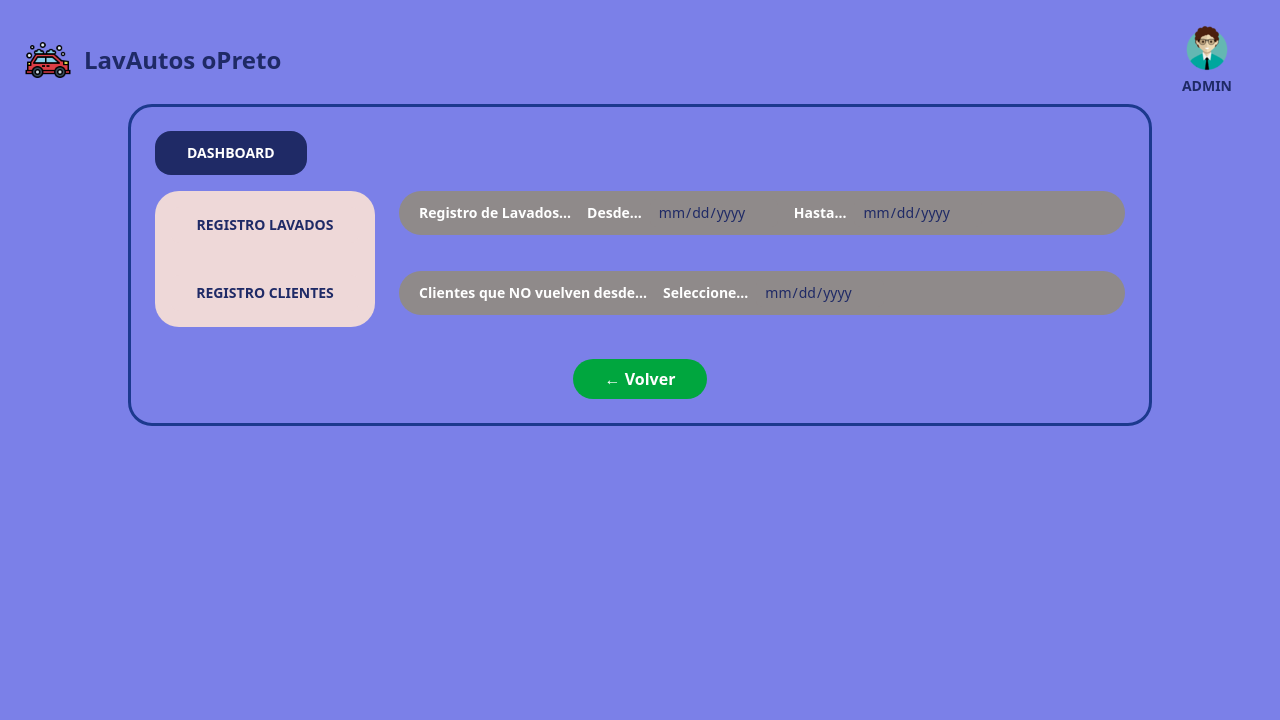
Test: DashboardPage › elegir Desde y Hasta consulta los lavados entregados del rango
Expected: the date field labelled "Desde..." is shown, [650, 199, 778, 227]
Click the button "REGISTRO LAVADOS" at (265, 225), box [171, 207, 359, 243]
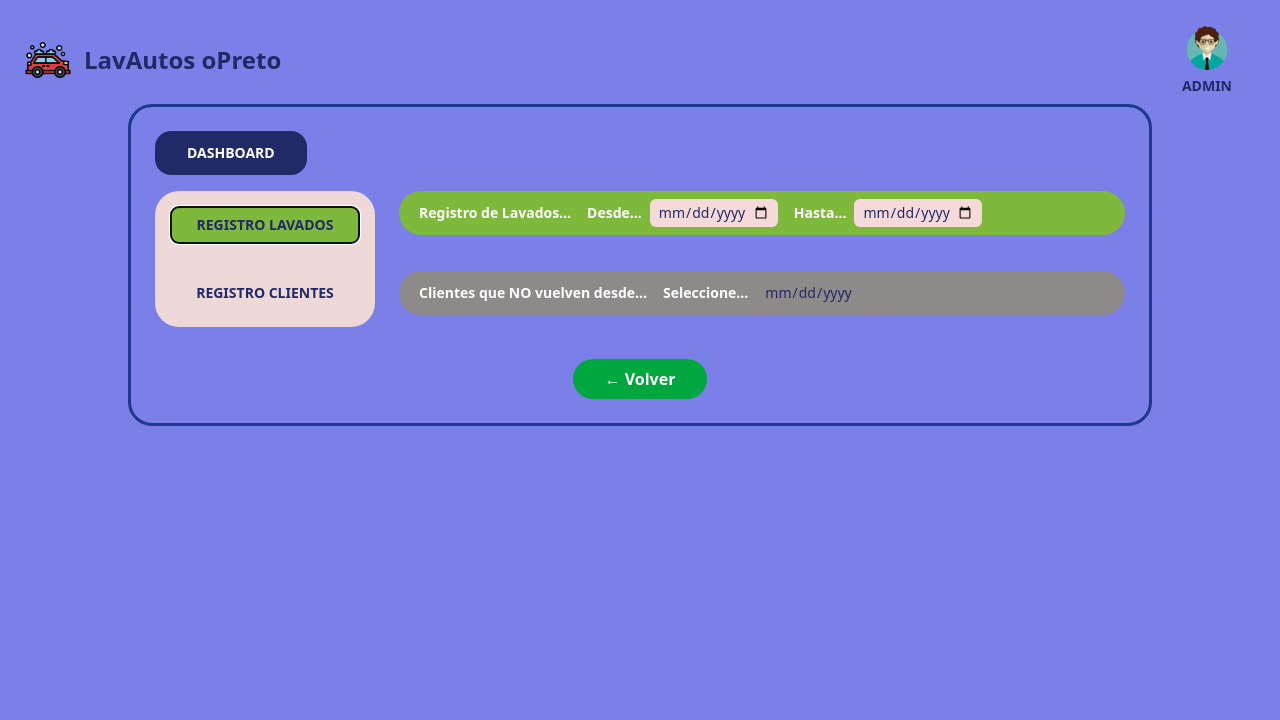
Type "2026-01-01" into the date field labelled "Desde..." at (714, 213), box [650, 199, 778, 227]
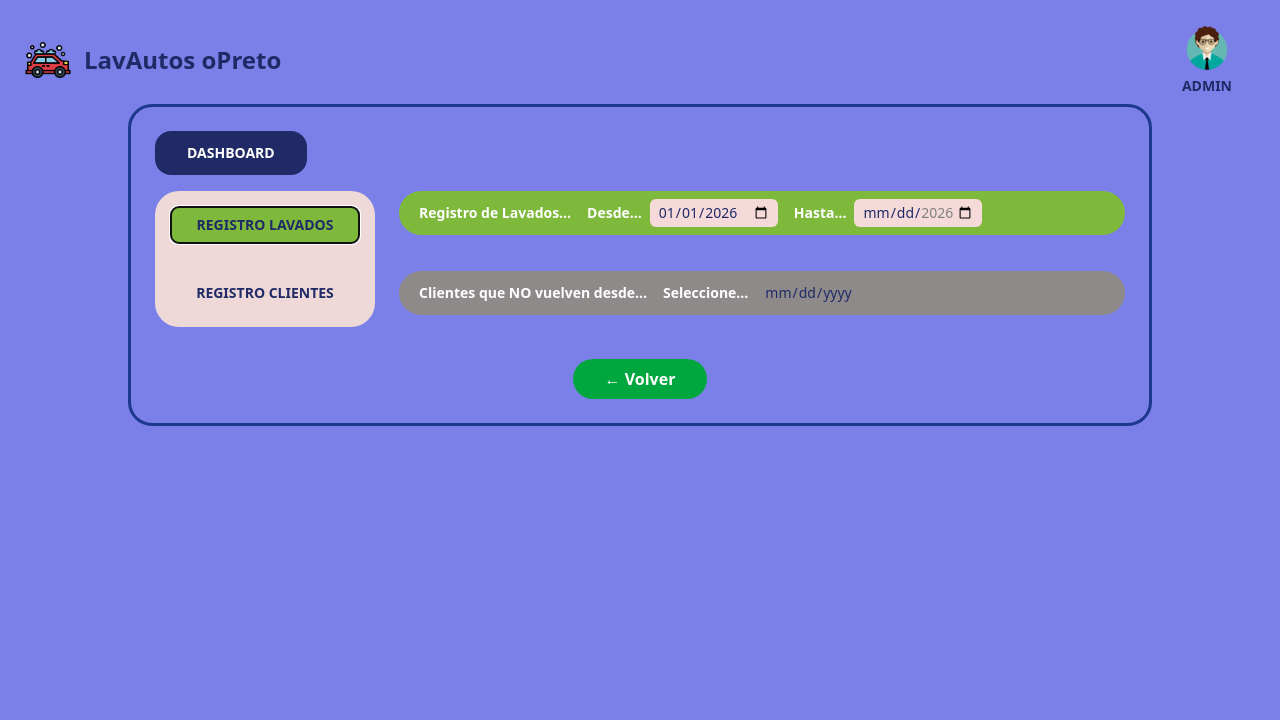
Now the date field labelled "Hasta..." has attribute min="2026-01-01"
Type "2026-01-31" into the date field labelled "Hasta..." at (918, 213), box [854, 199, 982, 227]
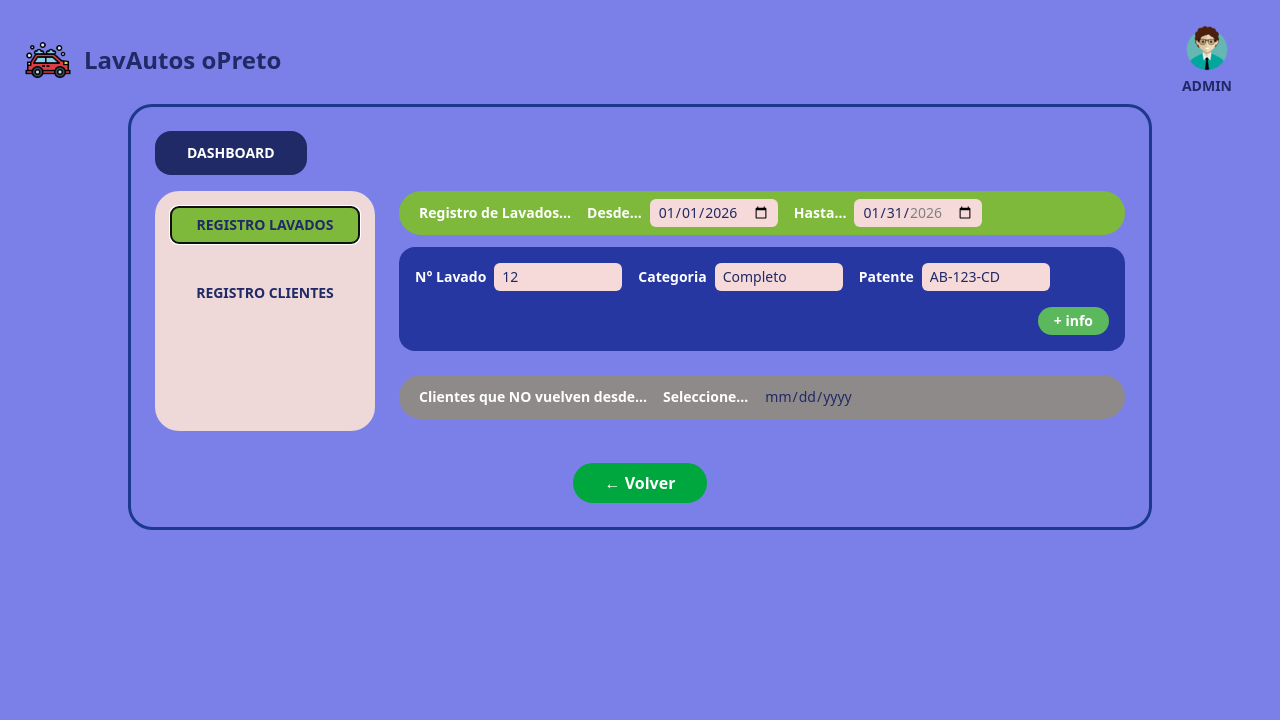
Now the field showing "12" is shown, box [494, 263, 622, 291]
Now the field showing "Completo" is shown, box [715, 263, 843, 291]
Now the field showing "AB-123-CD" is shown, box [922, 263, 1050, 291]
